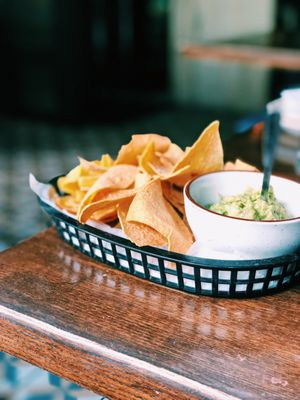sushi: (184, 170, 300, 260)
